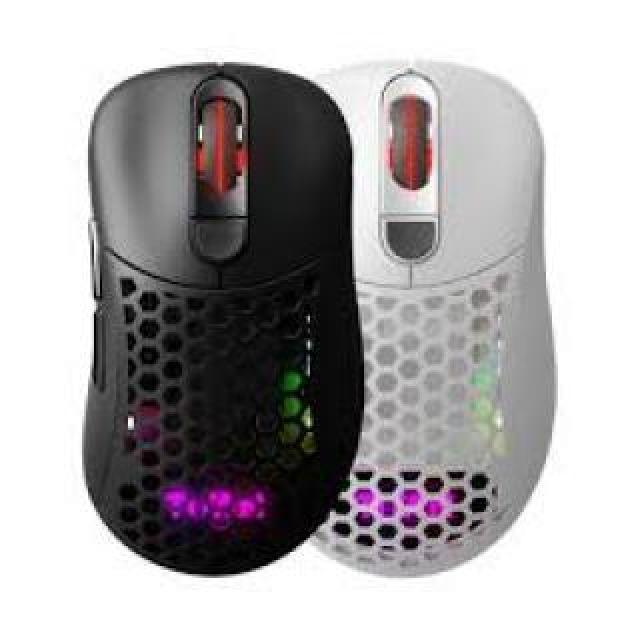mouse: (94, 55, 334, 575), (330, 20, 535, 558)
